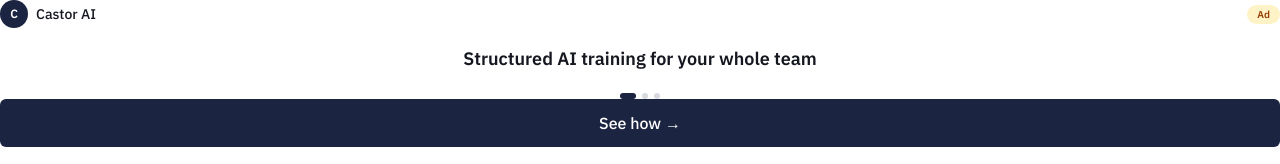
it: PromoAdSlide › jumps to a fact immediately when its dot is clicked
Click the button named "Show fact 3 of 3". click: click(657, 96)
box: left=654, top=93, right=660, bottom=99
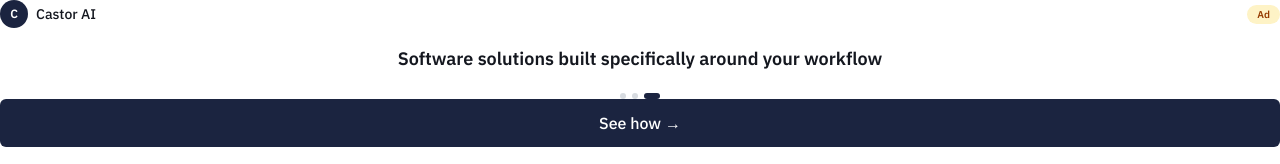
Expected: the text "Software solutions built specifically around your workflow" is shown, left=398, top=44, right=882, bottom=73
Expected: the text "Structured AI training for your whole team" is gone
